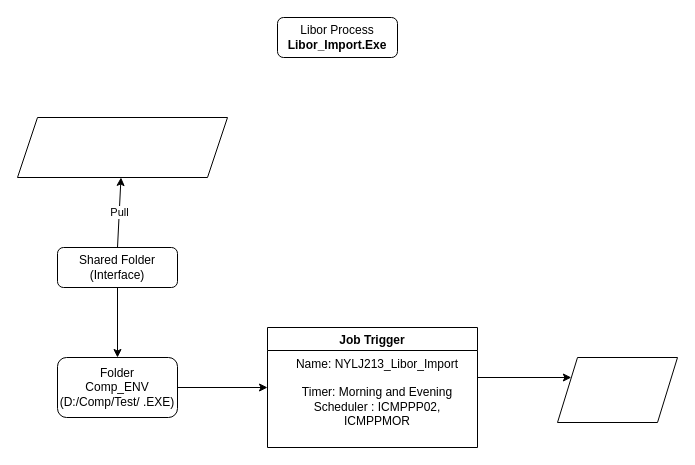
Some shapes in this 695 by 465 pixel diagram are drawn without their labels. Each missing label, with the centre of its shape:
"Bloomberg Input : TXT File Libor_GP.TXT" goes at point 122,147.
"Output : Table NYL_Libor_Rates" goes at point 617,389.
